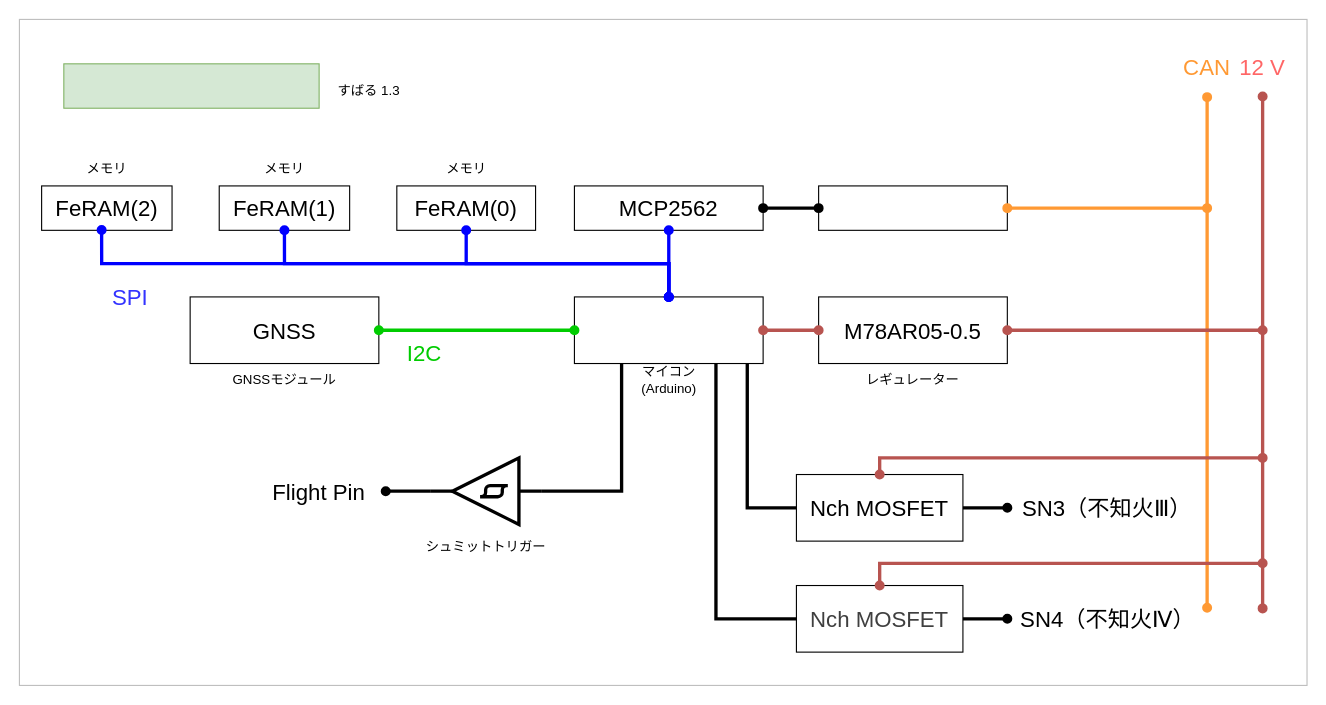
Some shapes in this 1326 by 705 pixel diagram are drawn without their labels. The shapes that lost their labels are listed below. From the top down, each one's centre as x and y in pixels, then its label:
(191,85): Flight Module
(912,207): MCP2515
(668,330): MKR WAN 1310
